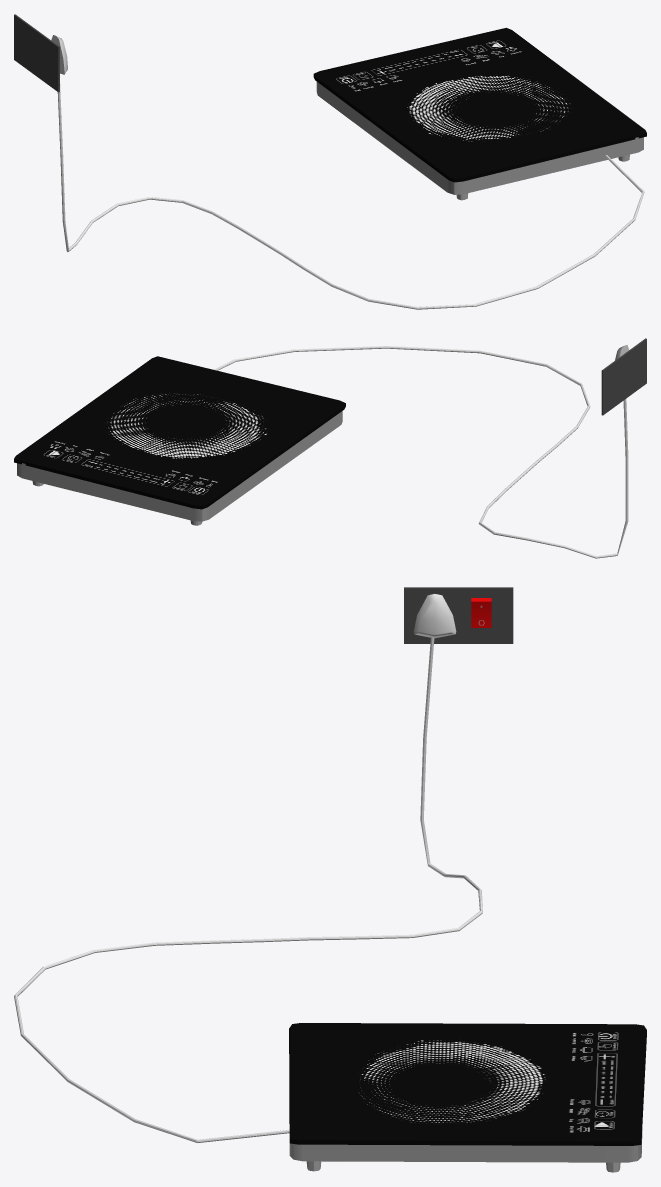
File: stove set.fbx
3 views of the same model, one above another, from view 1: azimuth 30°, elevation 25°; view 2: azimuth 150°, elevation 25°; view 3: azimuth 270°, elevation 25° (orthographic). The views are drawn at different scales.
Parts seen in each view (by area): view 1: stove_set; view 2: stove_set; view 3: stove_set.
Boxes of the visible parts, <box> form: stove_set: <box>14,14,646,309</box>; stove_set: <box>14,338,646,558</box>; stove_set: <box>14,587,646,1172</box>.
Bounding box in the file's own units: 52.96 × 20.25 × 43.2.
6 materials, 2 textured.
